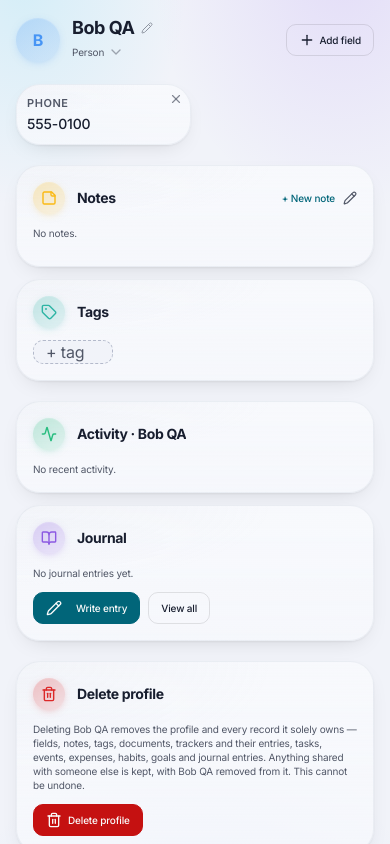
Scenario: Info tab · delete profile › does not delete on the first click — it asks first
Expected: the text "Bob QA" is shown, [72,17,134,40]
Click the button with test id "info-delete-profile". click: click(88, 820)
box: [33,804,143,836]
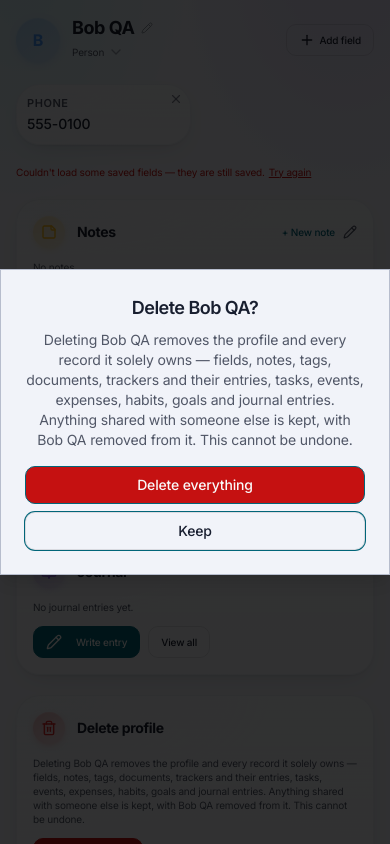
Expected: the dialog with test id "info-delete-confirm" is shown, [0,269,389,575]
